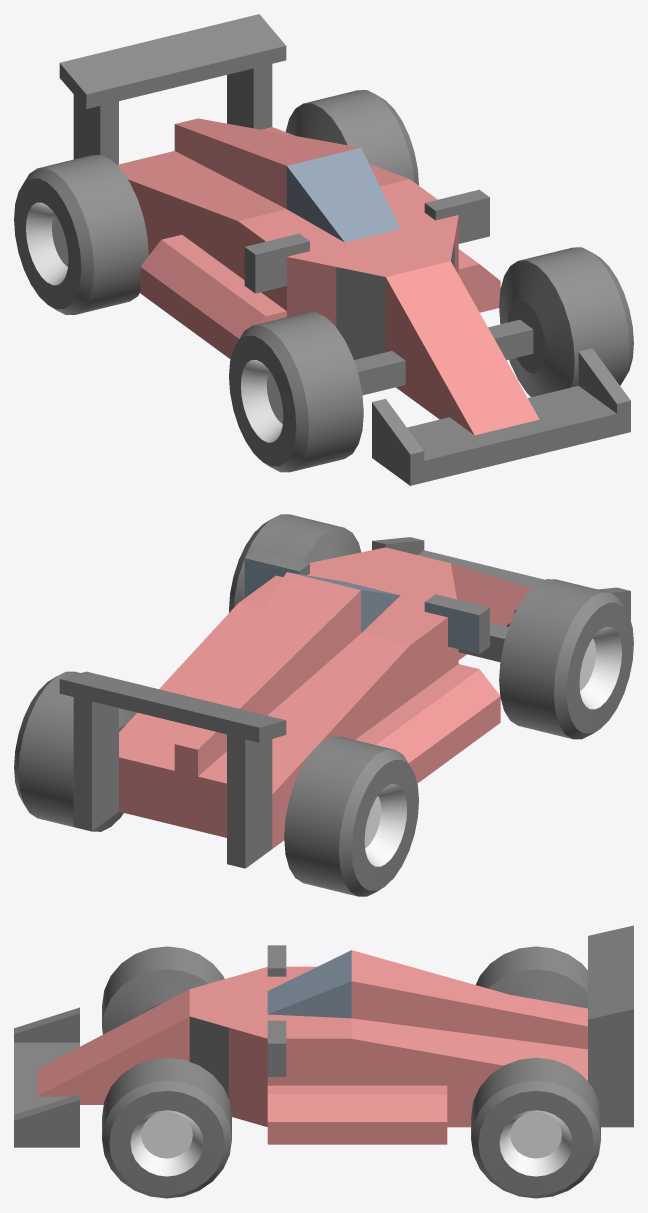
The model's file is raceCarRed.glb.
The picture shows the model from 3 angles, top to bottom: view 1: azimuth 30°, elevation 25°; view 2: azimuth 150°, elevation 25°; view 3: azimuth 270°, elevation 25°; orthographic projection. The views are drawn at different scales.
Parts seen in each view (by area): view 1: body, wheelFrontRight, wheelBackRight, wheelFrontLeft, wheelBackLeft; view 2: body, wheelBackRight, wheelFrontRight, wheelBackLeft, wheelFrontLeft; view 3: body, wheelBackLeft, wheelFrontLeft, wheelFrontRight, wheelBackRight.
Boxes of the visible parts, left/top/right/bottom form: body: left=59, top=14, right=630, bottom=485; wheelFrontRight: left=229, top=312, right=363, bottom=472; wheelBackRight: left=14, top=155, right=148, bottom=314; wheelFrontLeft: left=499, top=247, right=633, bottom=397; wheelBackLeft: left=285, top=90, right=418, bottom=185; body: left=59, top=537, right=630, bottom=868; wheelBackRight: left=284, top=736, right=418, bottom=896; wheelFrontRight: left=499, top=579, right=633, bottom=739; wheelBackLeft: left=14, top=671, right=136, bottom=831; wheelFrontLeft: left=229, top=514, right=360, bottom=612; body: left=14, top=925, right=633, bottom=1147; wheelBackLeft: left=471, top=1057, right=600, bottom=1198; wheelFrontLeft: left=102, top=1057, right=231, bottom=1198; wheelFrontRight: left=102, top=946, right=224, bottom=1034; wheelBackRight: left=476, top=946, right=587, bottom=1008.
Bounding box in the file's own units: 0.7288 × 0.397 × 1.35.
Materials: 1 (1 with a texture image).
